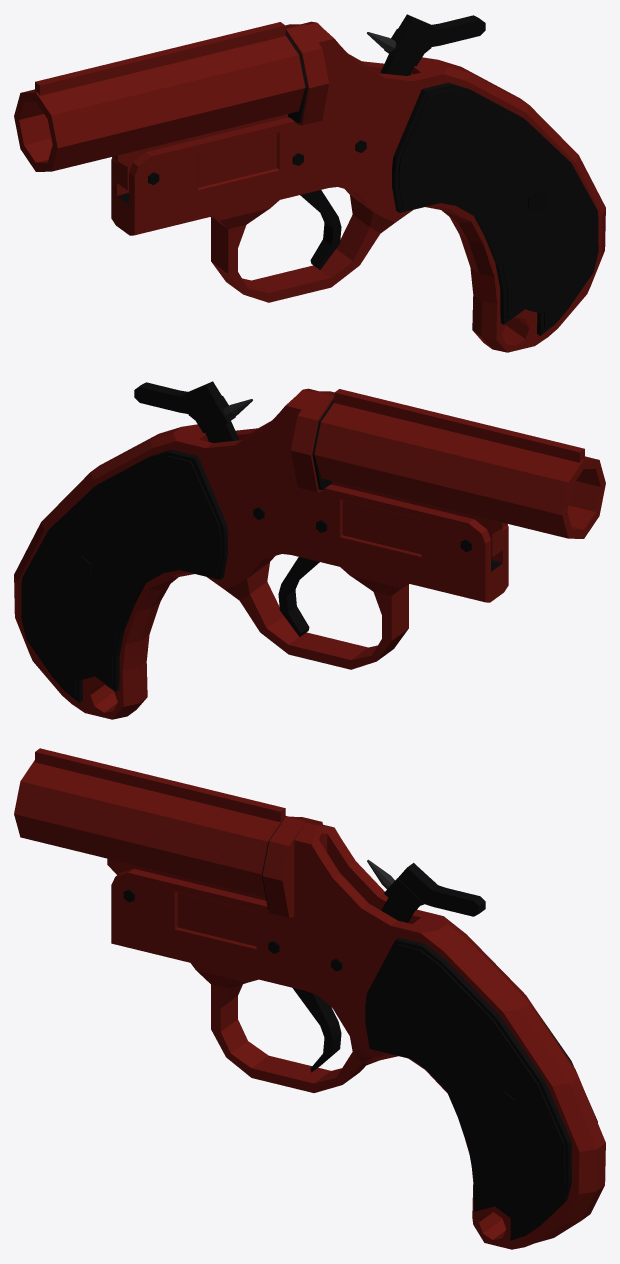
The model's file is Flare.fbx.
The picture shows the model from 3 angles, top to bottom: view 1: azimuth 30°, elevation 25°; view 2: azimuth 150°, elevation 25°; view 3: azimuth 330°, elevation 25°; orthographic projection.
Visible parts, largest first — view 1: Flare; view 2: Flare; view 3: Flare.
Part boxes in pixels (box(x1,y1,x2,y2)): Flare: box(14, 14, 605, 352); Flare: box(14, 381, 605, 719); Flare: box(14, 748, 605, 1249).
Size of the model in its own units: 43.82 by 27.58 by 6.27.
